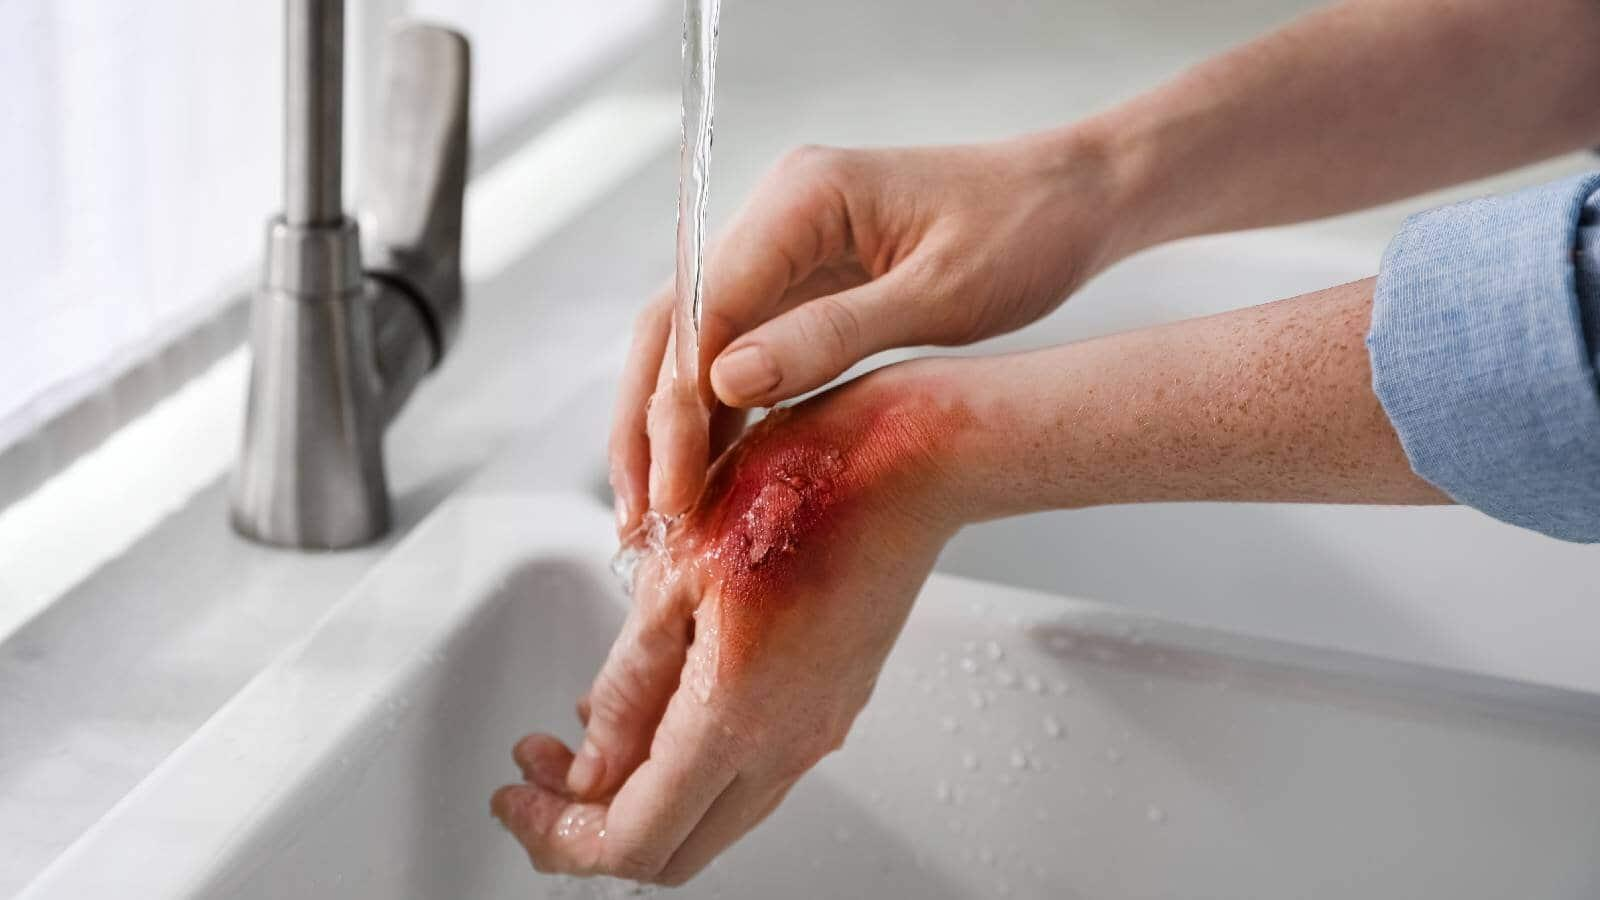burned-skin: (685, 385, 993, 710)
